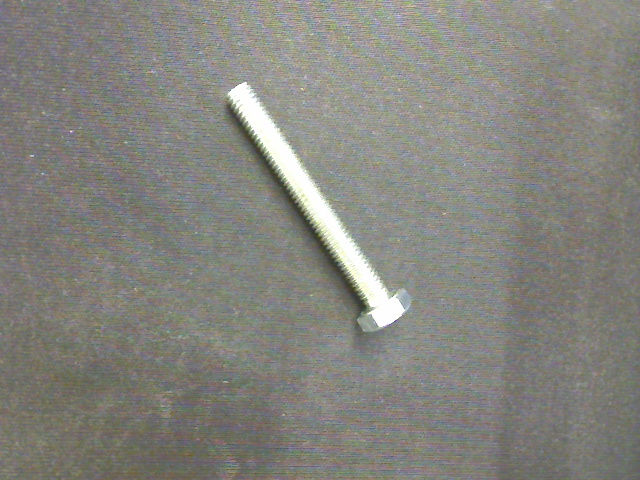Screw: (226, 82, 412, 333)
